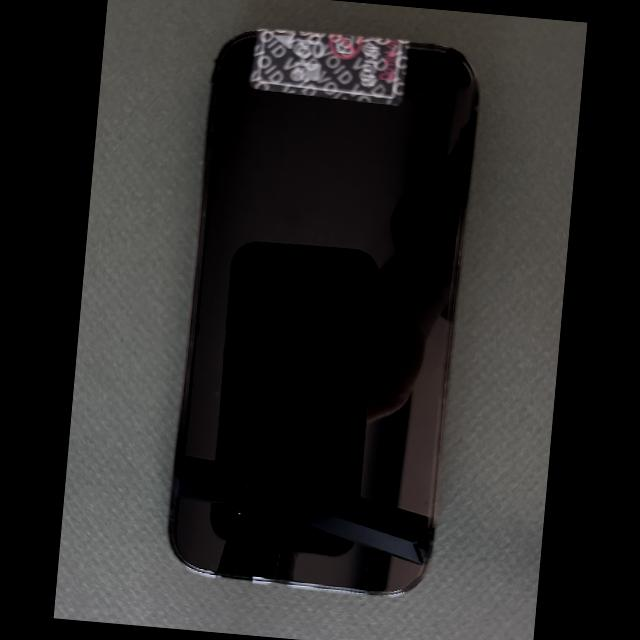phone: (170, 30, 477, 592)
sticker: (249, 28, 410, 107)
